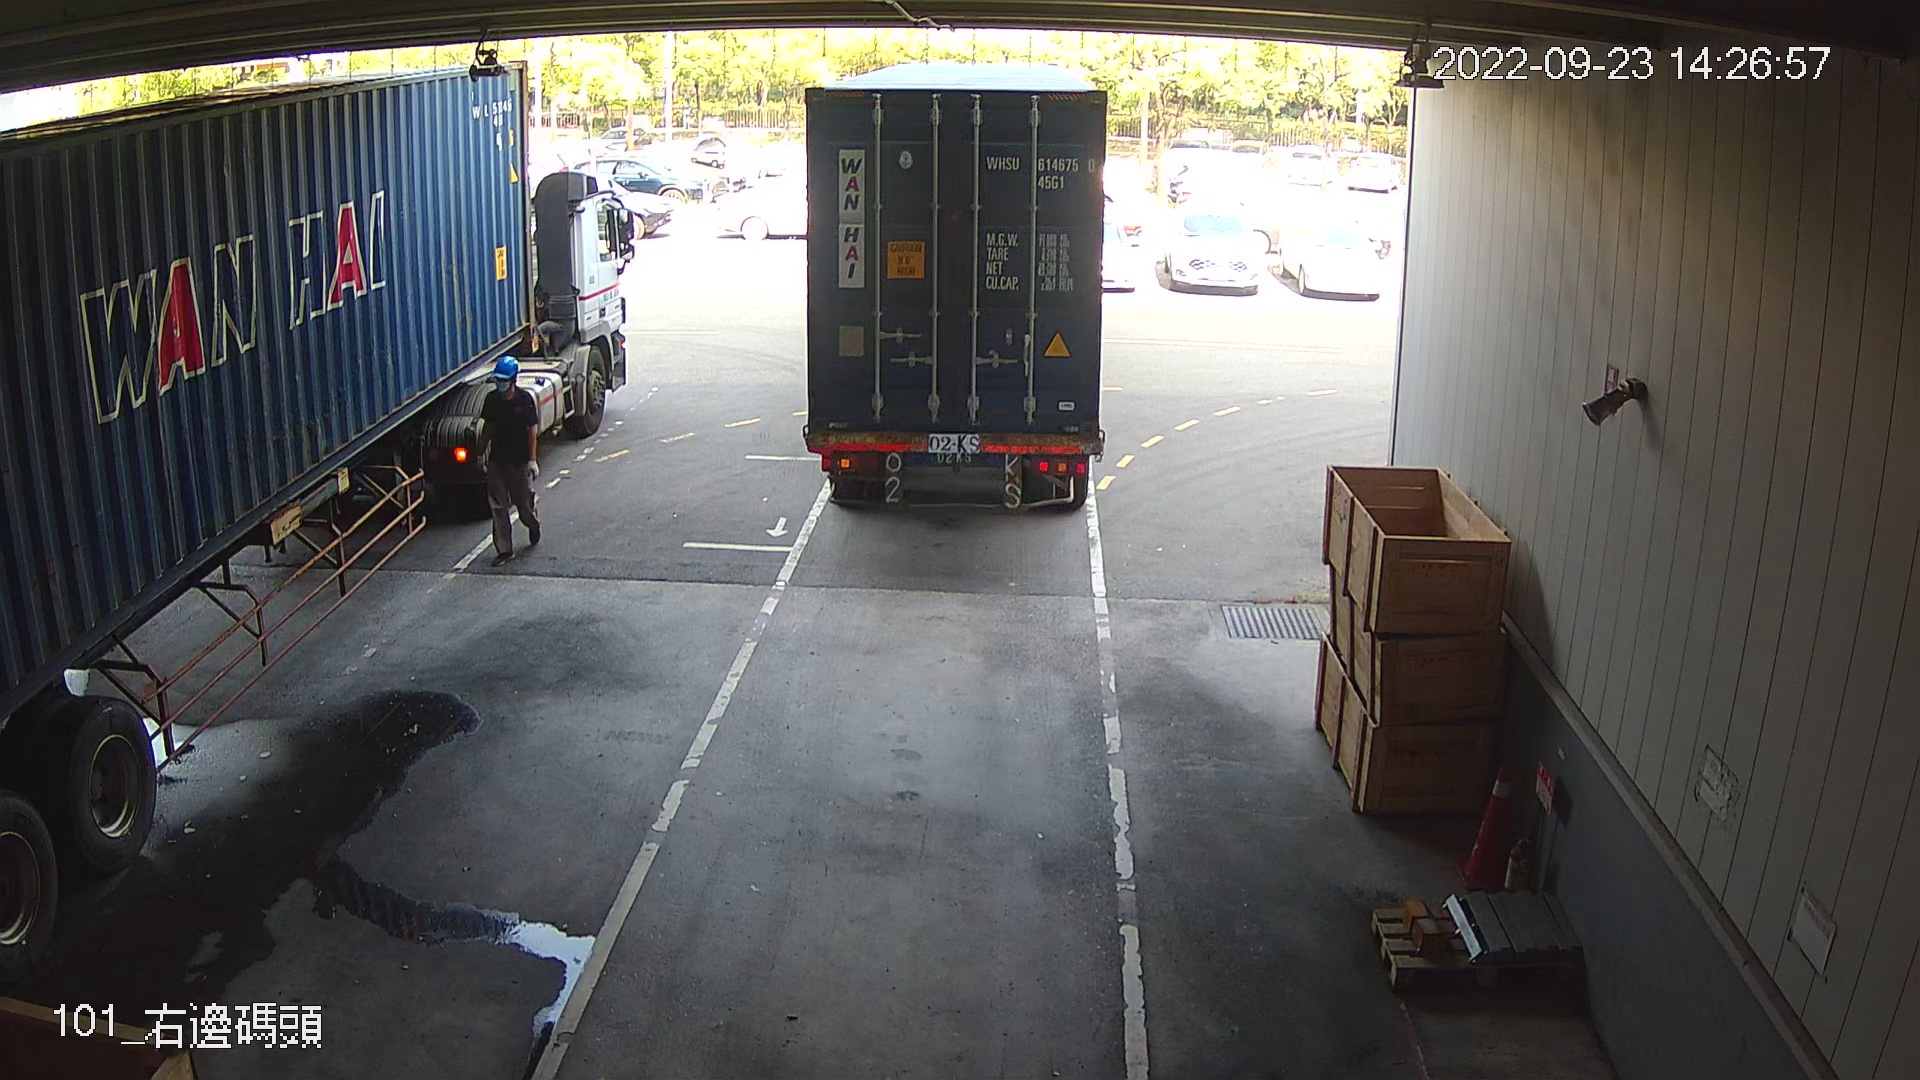container: (982, 146, 1100, 196)
